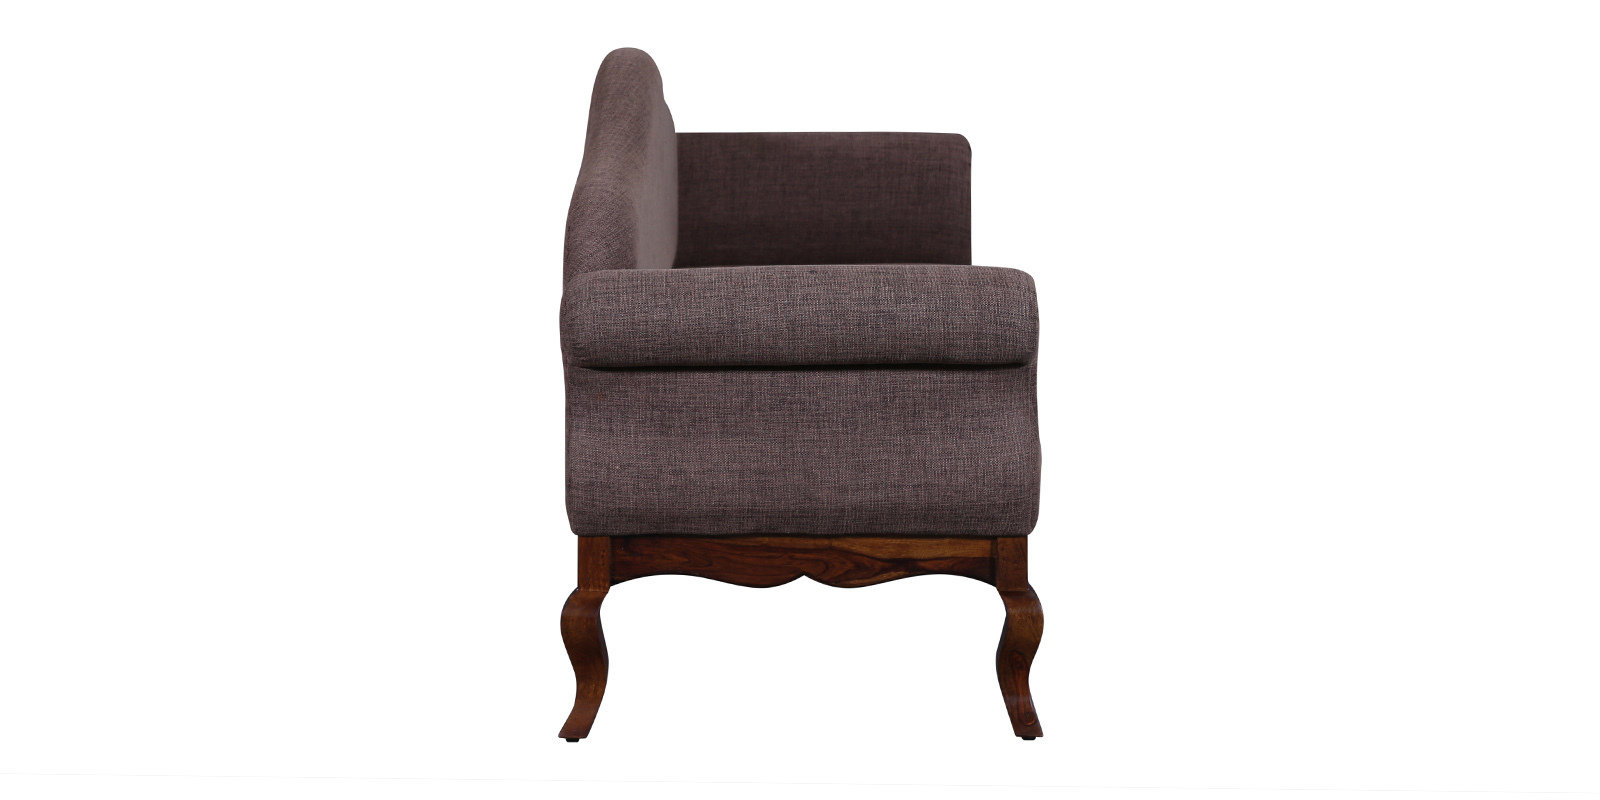Anne Three Seater Sofa in Provincial Teak Finish by Amberville: (543, 34, 1061, 738)
